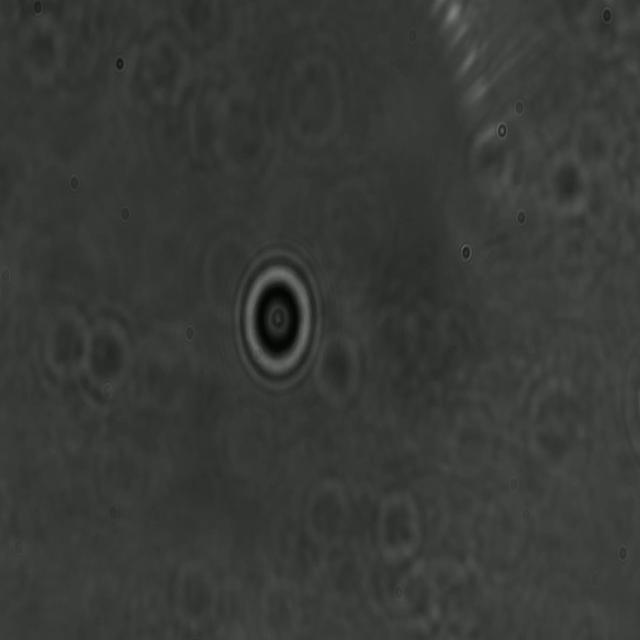LCELL: (230, 246, 322, 396)
